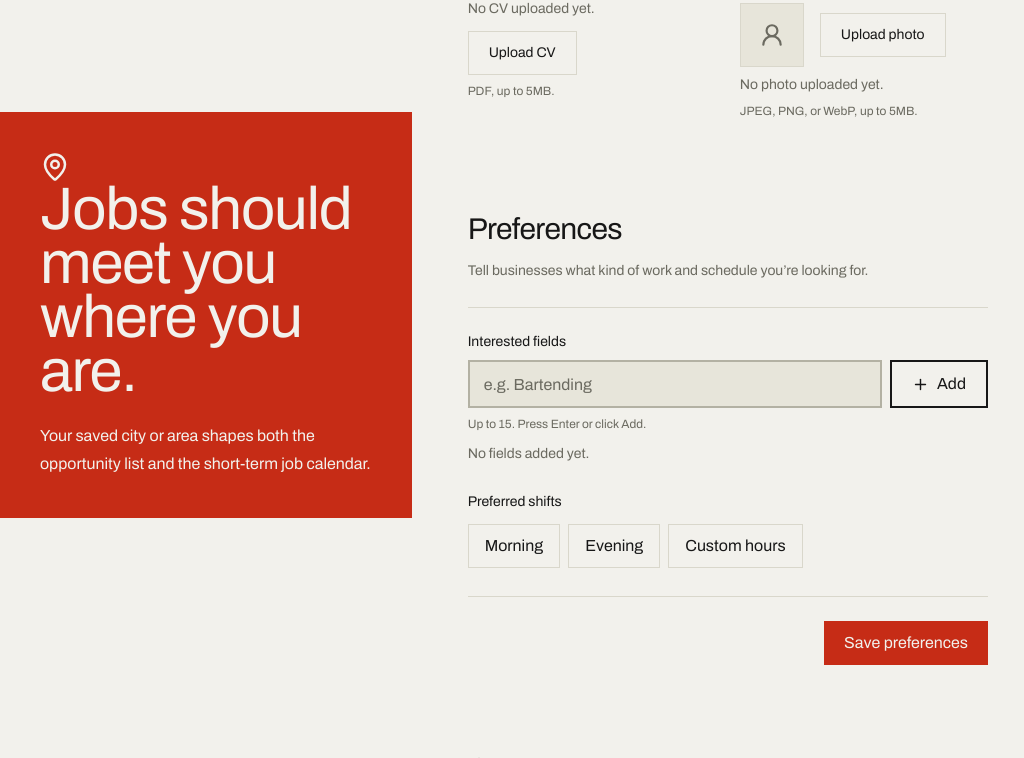
Test: adds an interested field and saves preferences
The width and height of the screenshot is (1024, 758).
(page scrolled)
Type "Bartending" into the field named "Interested fields".
click(675, 384); type("Bartending")  # box [468,360,882,408]
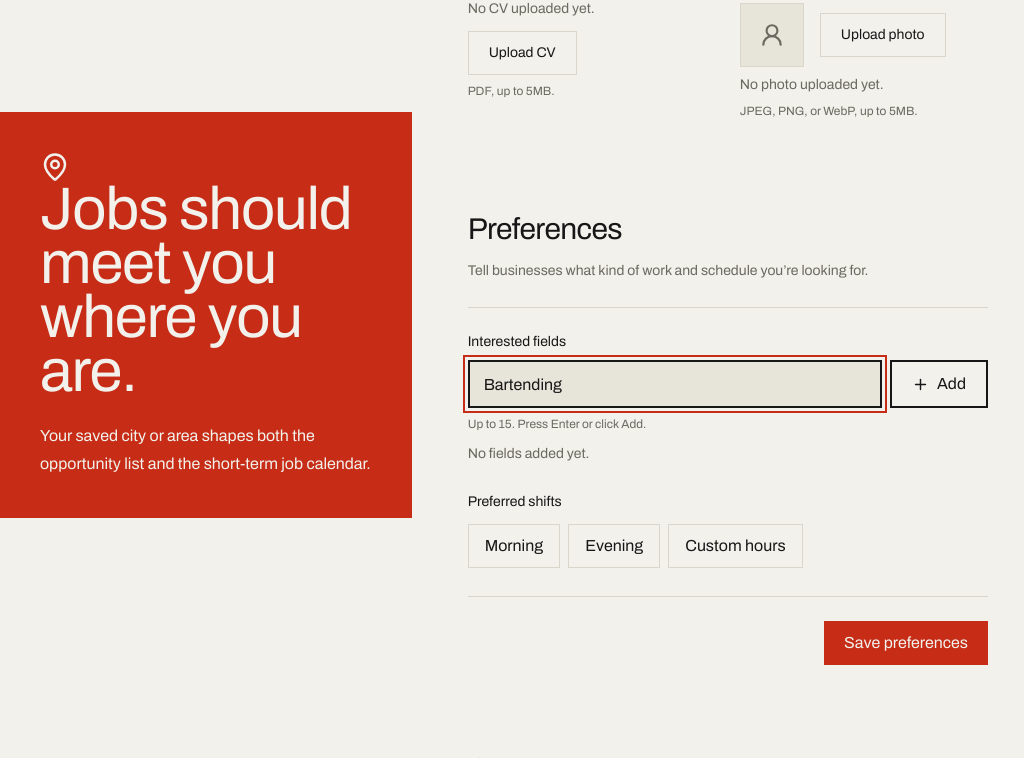
Click the button "Add".
click(939, 384)  # box [890,360,988,408]
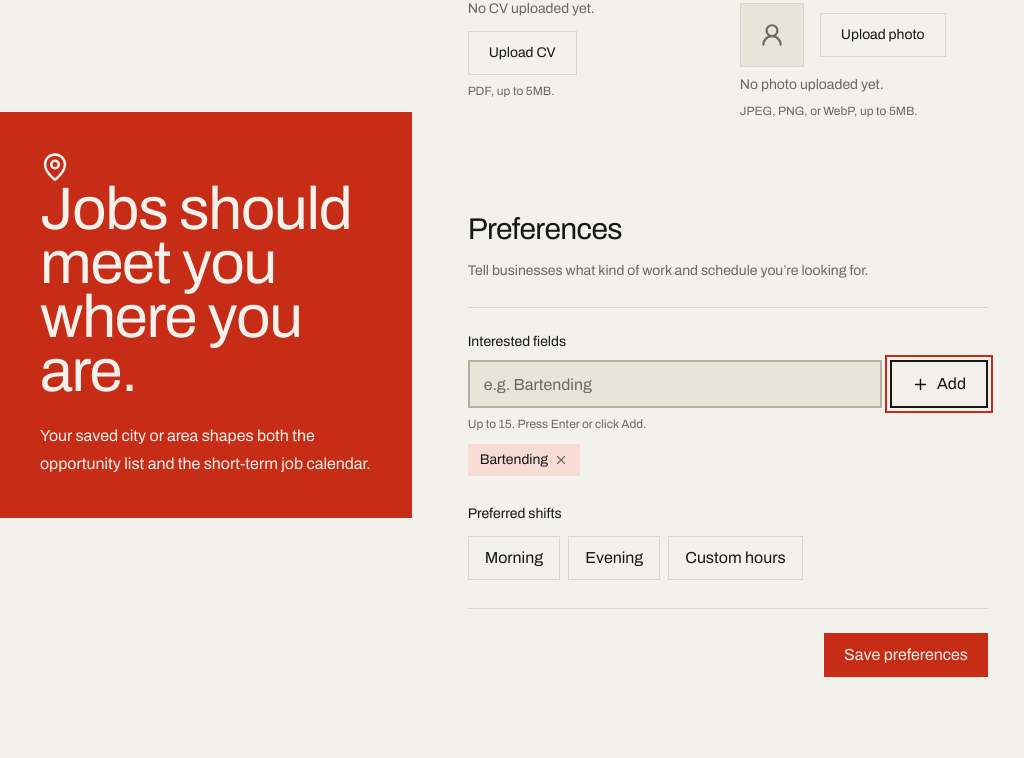
Expected: the text "Bartending" is shown, [468,444,580,476]
Click the button "Morning".
click(514, 558)  # box [468,536,560,580]
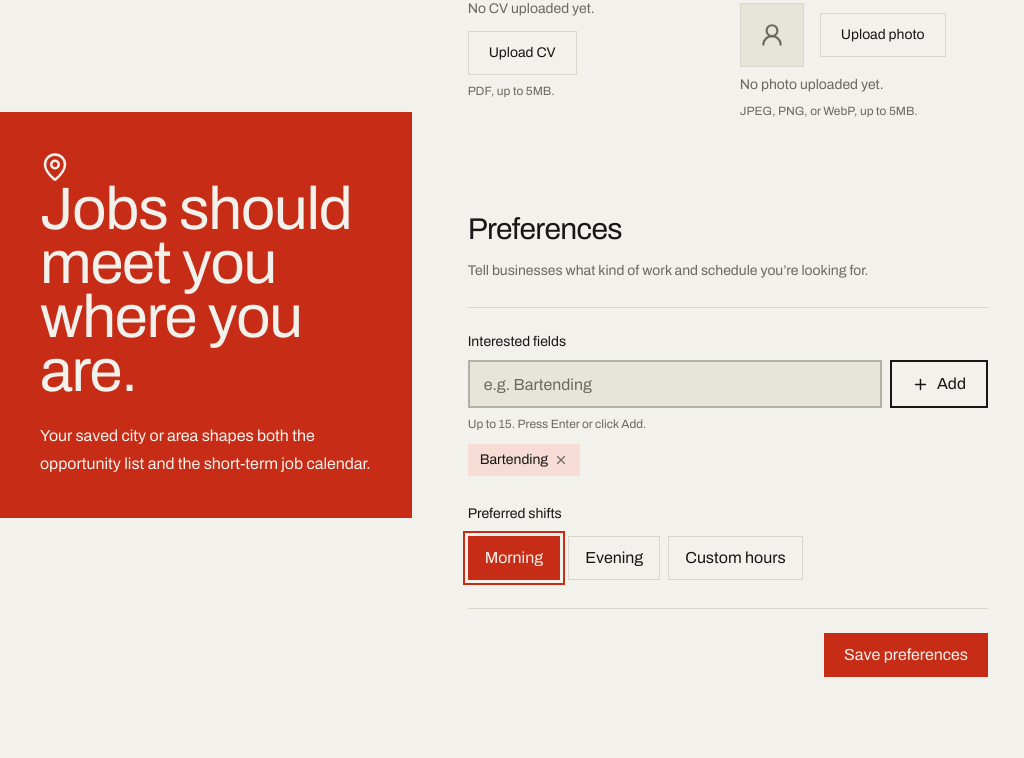
Click the button "Save preferences".
click(906, 655)  # box [824,633,988,677]
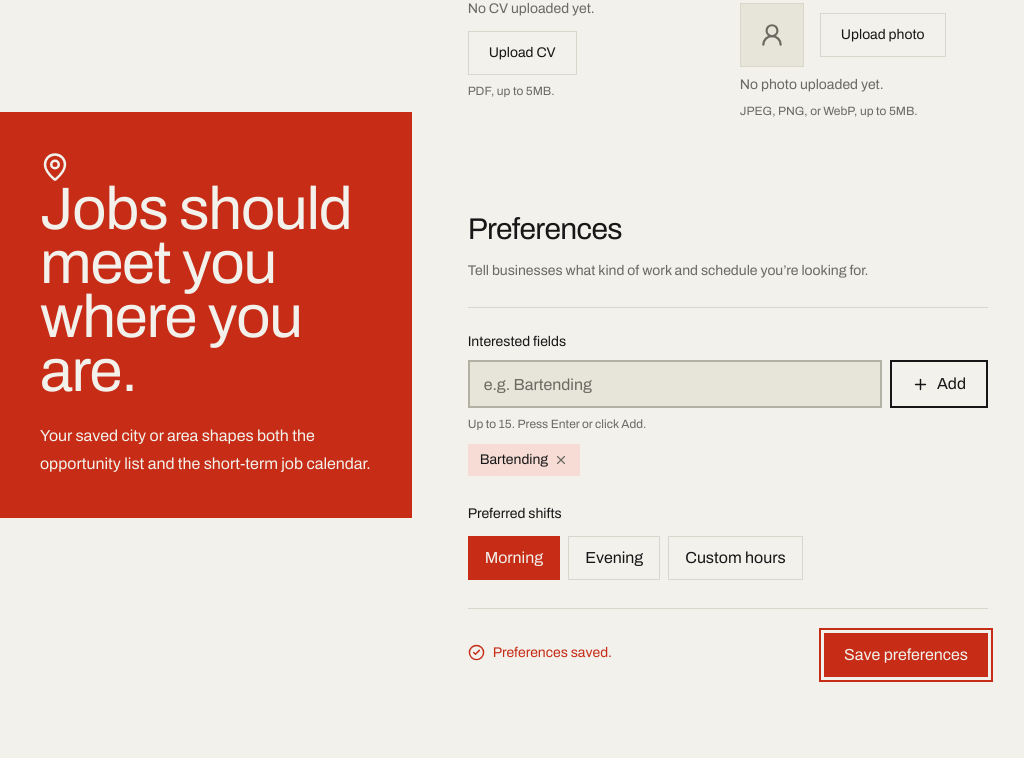
Expected: the text "Preferences saved." is shown, [468,643,612,663]
